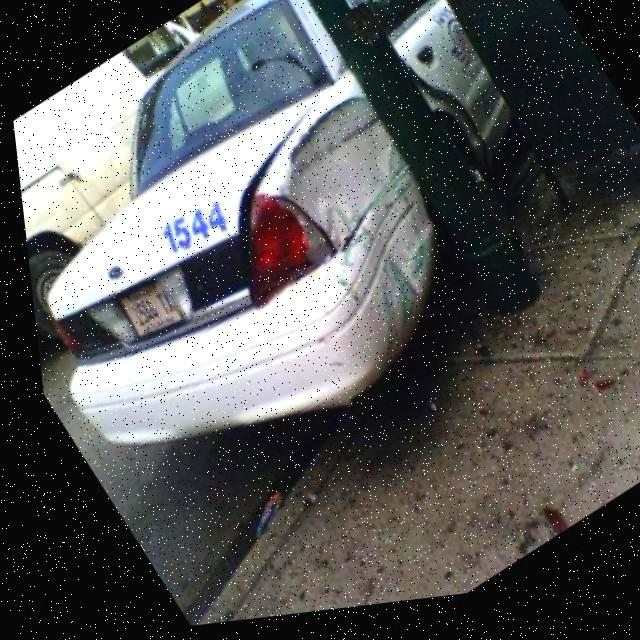license_plate: (102, 270, 179, 352)
